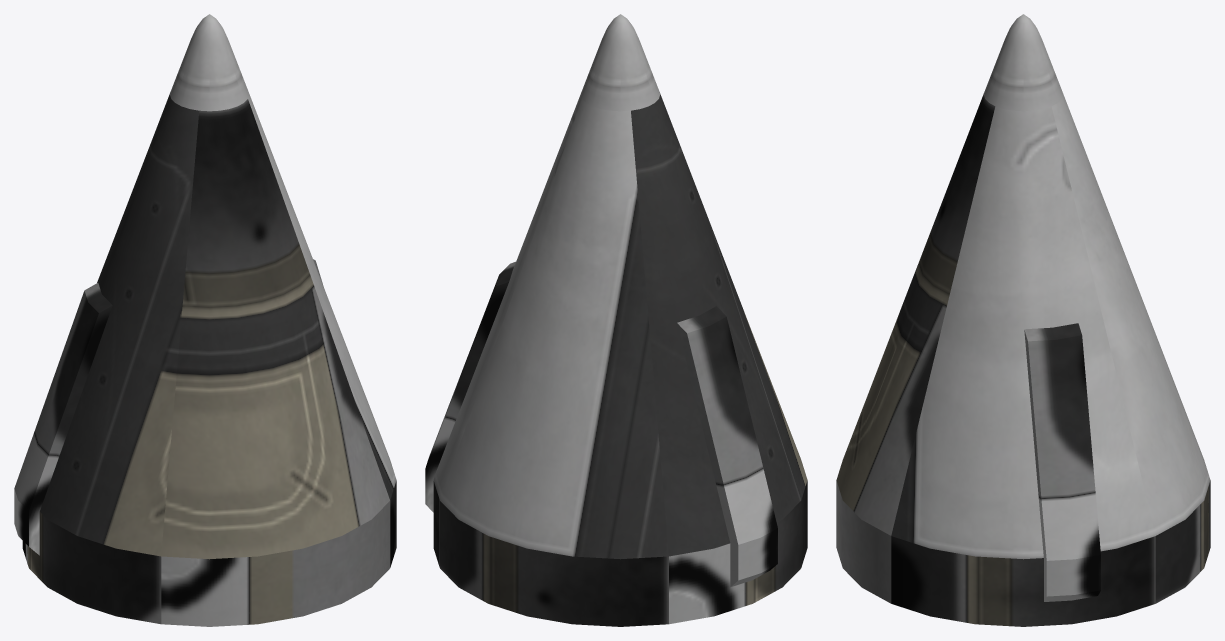
Rendered from hydra_lv_nose_fuel_tank_s2_1.obj.
3 renders of one model, left to right at view 1: azimuth 30°, elevation 25°; view 2: azimuth 150°, elevation 25°; view 3: azimuth 270°, elevation 25°, orthographic.
Visible parts, largest first — view 1: 2; view 2: 2; view 3: 2.
Boxes of the visible parts, left/top/right/bottom form: 2: left=14, top=14, right=396, bottom=626; 2: left=425, top=14, right=807, bottom=626; 2: left=836, top=14, right=1210, bottom=626.
Bounding box in the file's own units: 2.61 × 3.94 × 2.5.
